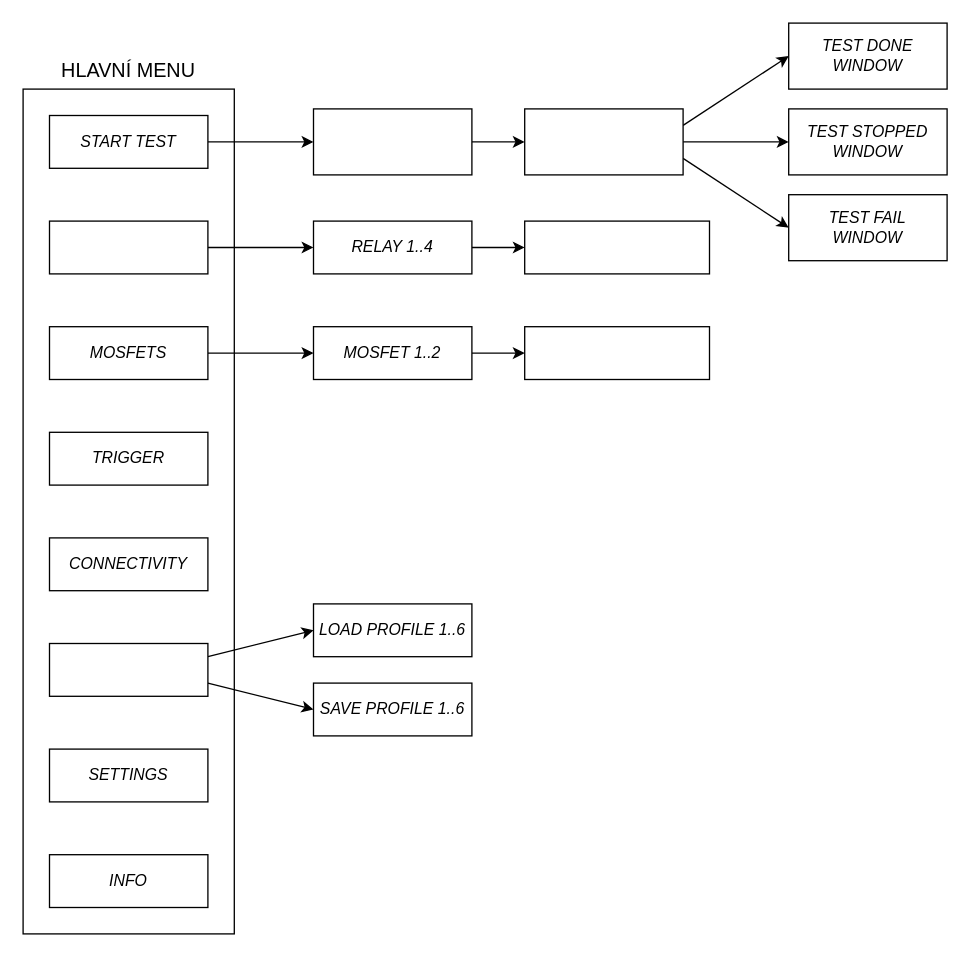
Image size: 970x957. Some labels were removed from this diagram. Each missing label, with the centre of its shape:
"CURRENT SETTING / PROFILE SETTINGS" belongs at [392,141].
"MOSFET PARAMETERS" belongs at [616,352].
"PROFILE" belongs at [128,669].
"RELAY PARAMETERS" belongs at [616,247].
"RELAYS" belongs at [128,247].
"TEST RUNNING WINDOW" belongs at [603,141].
